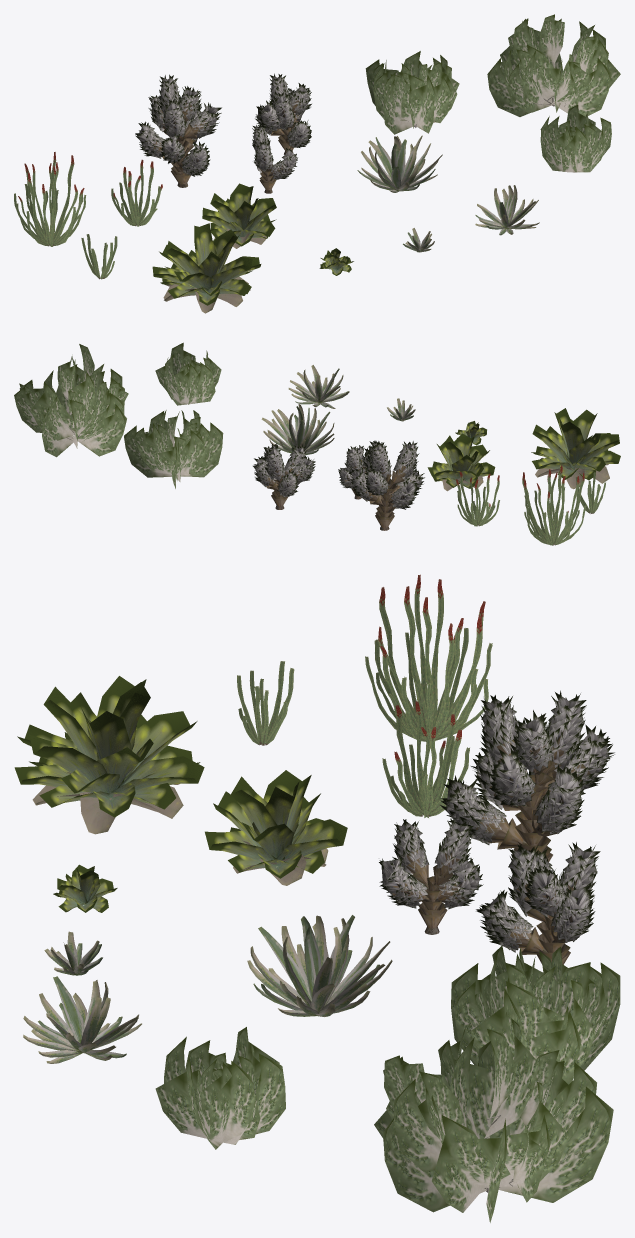
File: desert_shrubs.glb
The picture shows the model from 3 angles, top to bottom: view 1: azimuth 30°, elevation 25°; view 2: azimuth 150°, elevation 25°; view 3: azimuth 270°, elevation 25°; orthographic projection. The views are drawn at different scales.
Parts seen in each view (by area): view 1: Merged; view 2: Merged; view 3: Merged.
Part boxes in pixels (x1=…): Merged: x1=14, y1=14, x2=620, y2=313; Merged: x1=14, y1=342, x2=620, y2=545; Merged: x1=14, y1=574, x2=620, y2=1222.
Bounding box in the file's own units: 7.53 × 1.28 × 3.65.
Materials: 10 (10 with a texture image).
